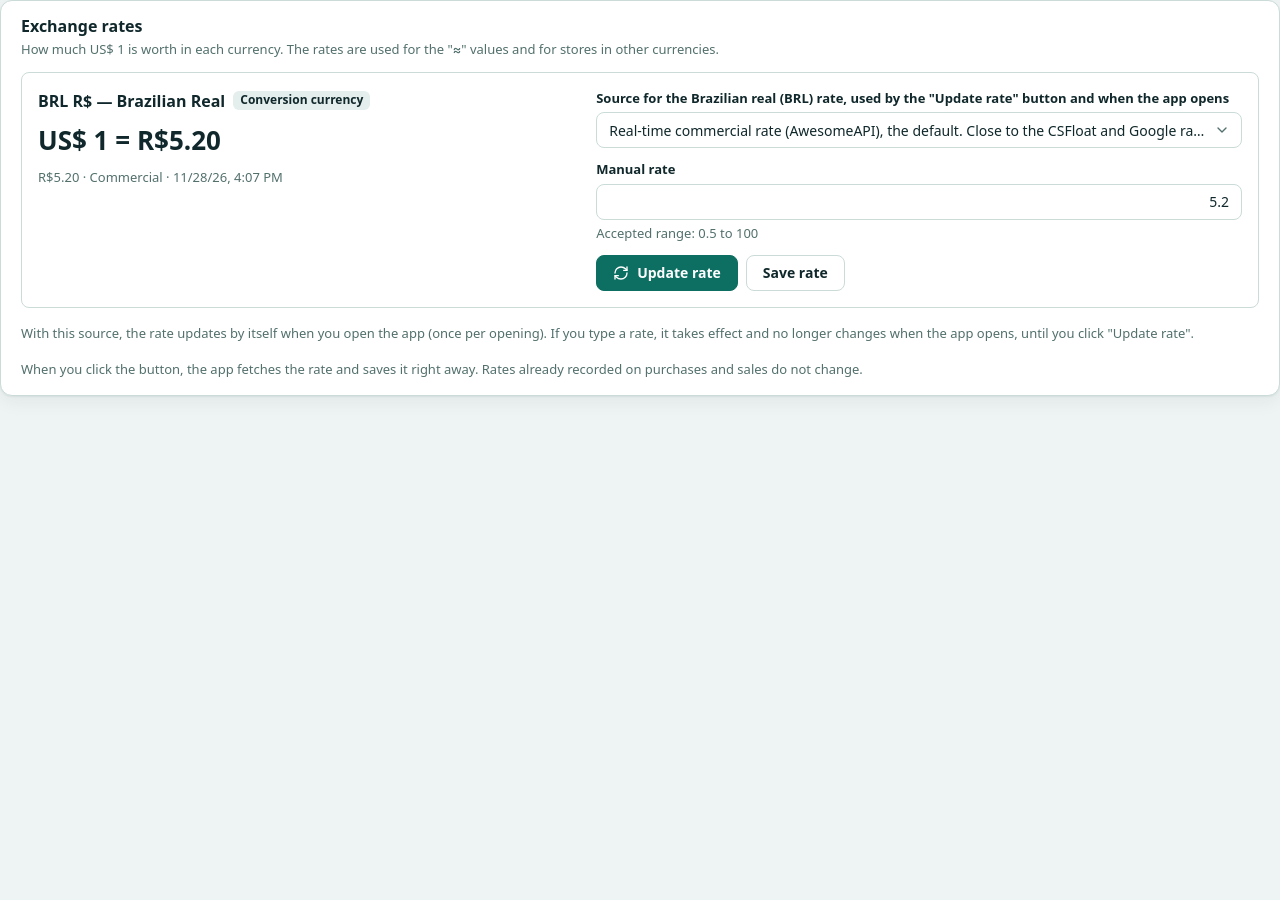
Cotações › "Atualizar cotação" é o botão principal e mostra a cotação nova num aviso
Step 1. Click the button "Update rate" → (667, 273), box [596,255,738,291]
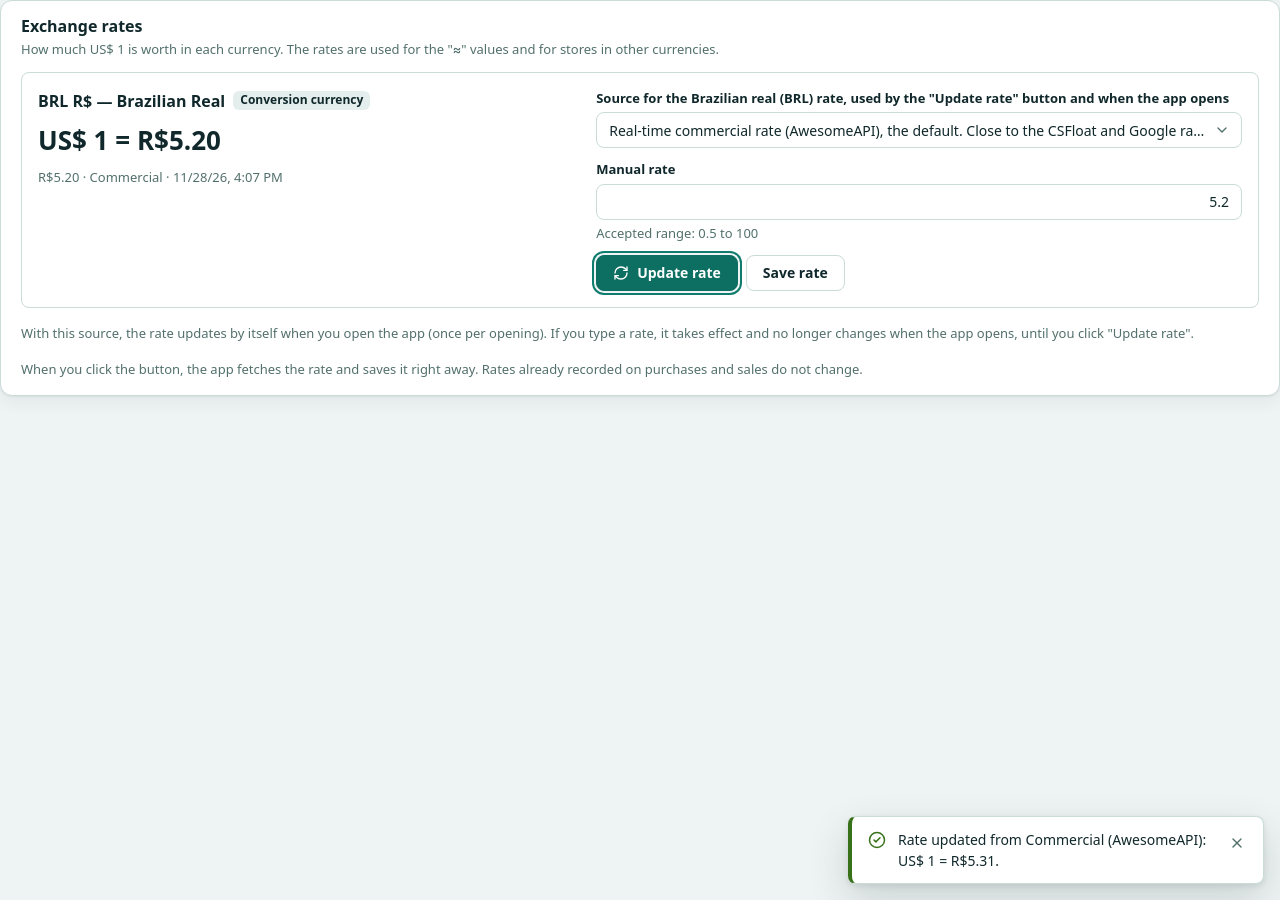
Expected: the text "Rate updated from Commercial (AwesomeAPI): US$ 1 = R$5.31." is shown, [898,829,1211,871]
